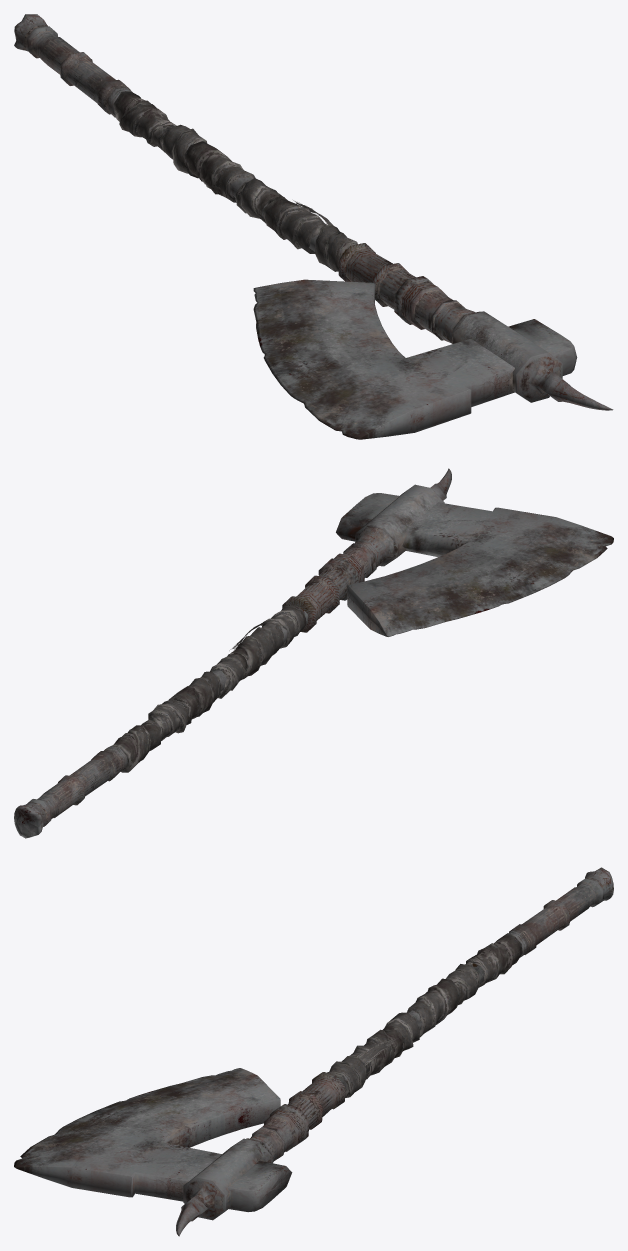
3 views of the same model, one above another, from view 1: azimuth 30°, elevation 25°; view 2: azimuth 150°, elevation 25°; view 3: azimuth 330°, elevation 25° (orthographic). The views are drawn at different scales.
Visible parts, largest first — view 1: WP_A_1006, WP_A_1006.001; view 2: WP_A_1006, WP_A_1006.001; view 3: WP_A_1006, WP_A_1006.001.
Part boxes in pixels (left/top/right/bottom): WP_A_1006: left=14, top=14, right=613, bottom=439; WP_A_1006.001: left=113, top=91, right=357, bottom=271; WP_A_1006: left=14, top=468, right=613, bottom=838; WP_A_1006.001: left=107, top=605, right=306, bottom=772; WP_A_1006: left=14, top=867, right=613, bottom=1236; WP_A_1006.001: left=327, top=933, right=522, bottom=1097.
Bounding box in the file's own units: 52.54 × 8.9 × 188.
Materials: 2 (2 with a texture image).
